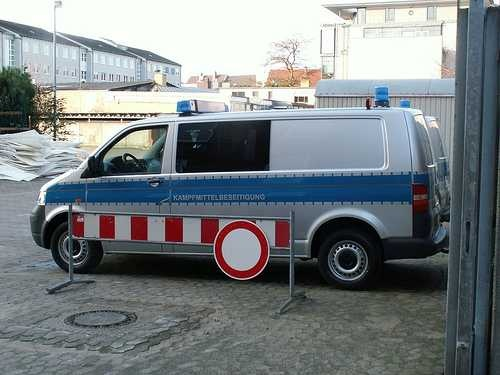Police Van: (32, 81, 449, 298)
